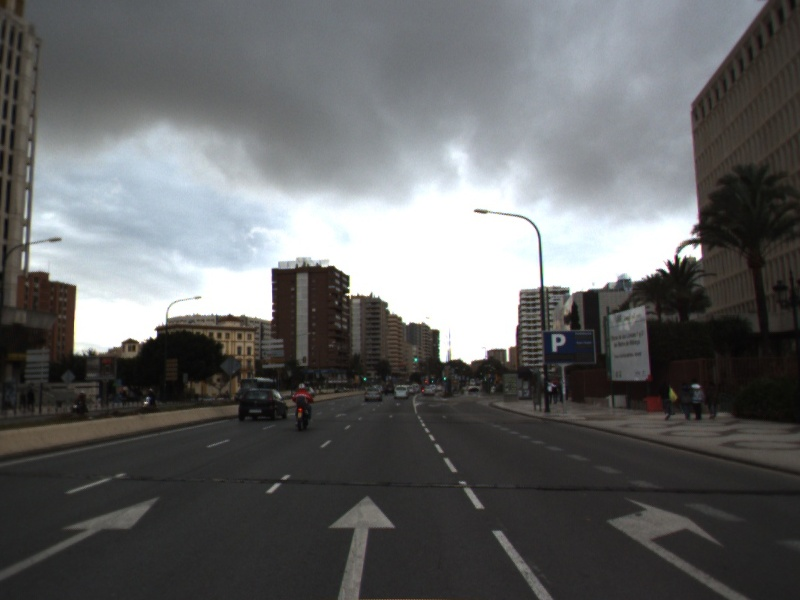RIGHT: (604, 495, 739, 600)
STRAIGHT: (1, 494, 163, 580), (325, 494, 397, 600)
